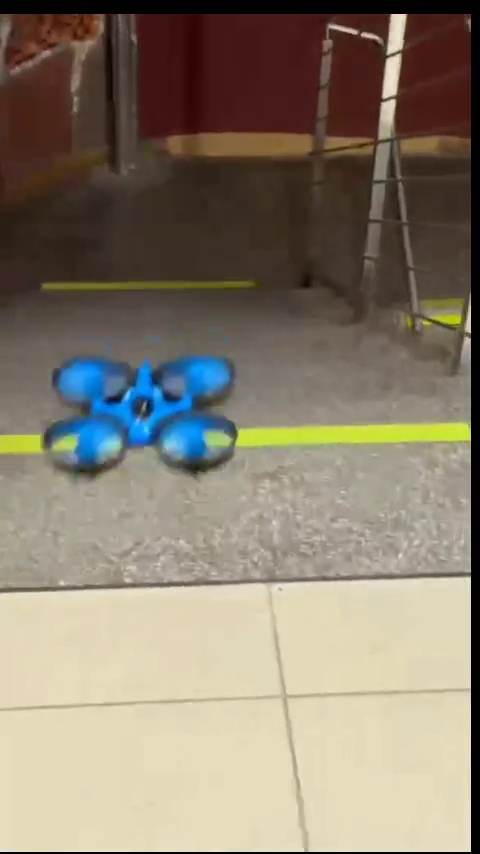drone: (47, 350, 235, 474)
